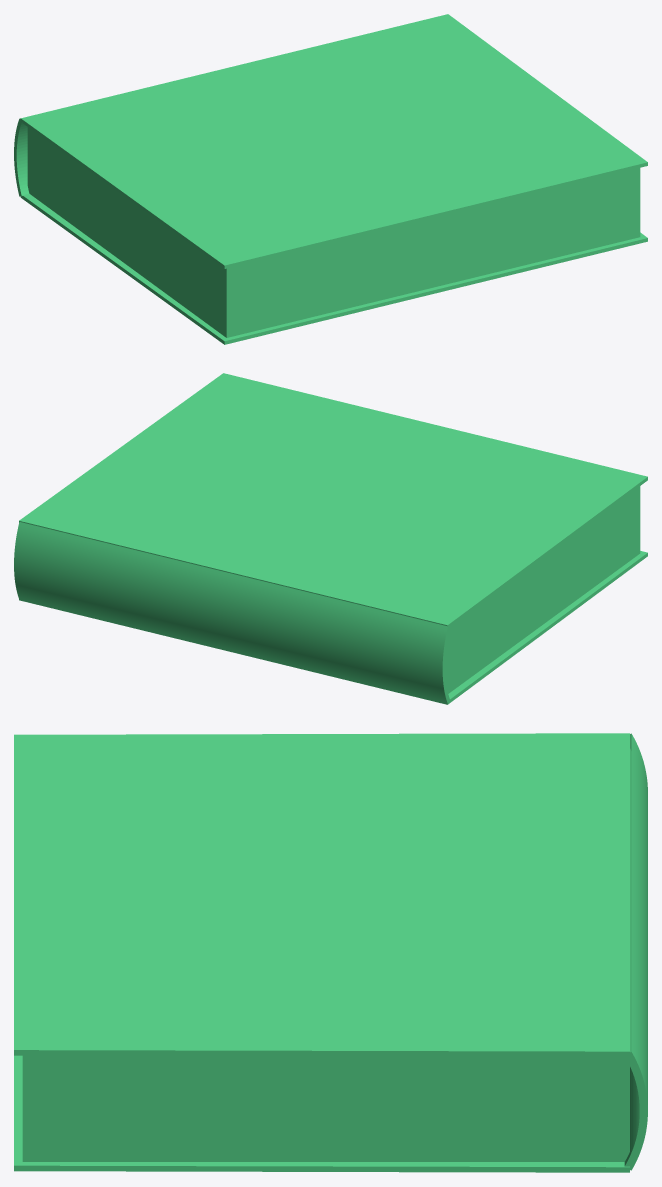
File: Book.obj
3 renders of one model, top to bottom at view 1: azimuth 30°, elevation 25°; view 2: azimuth 150°, elevation 25°; view 3: azimuth 270°, elevation 25°, orthographic. The views are drawn at different scales.
Visible parts, largest first — view 1: book; view 2: book; view 3: book.
Boxes of the visible parts, <box> form: book: <box>14,14,647,344</box>; book: <box>14,373,647,704</box>; book: <box>14,733,647,1172</box>.
Bounding box in the file's own units: 48.92 × 8.66 × 41.09.
